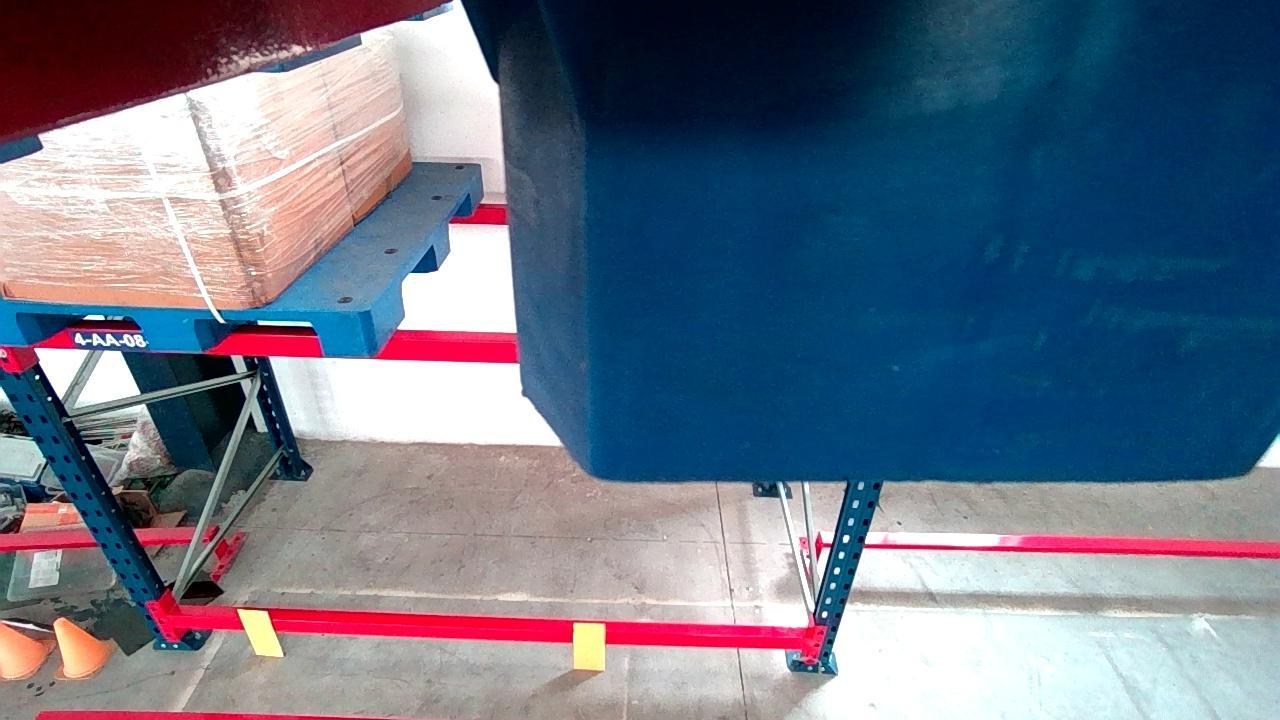h_rack: (168, 614, 809, 650), (34, 330, 516, 359)
orange_strip: (238, 610, 283, 655), (574, 622, 604, 667)
small_pallet: (0, 300, 368, 355)
